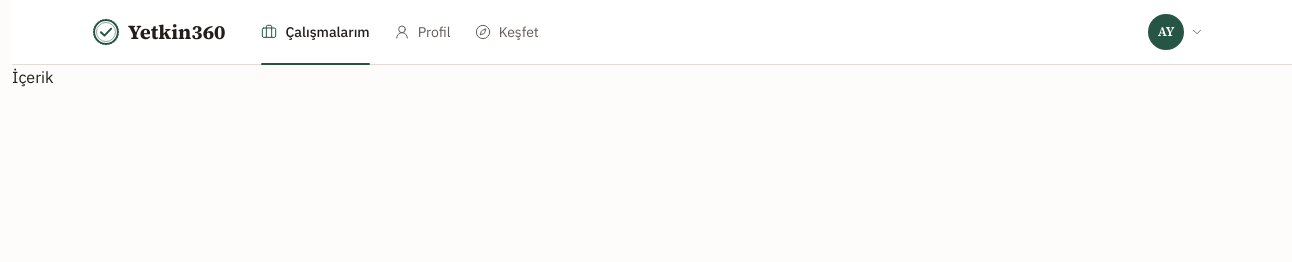
Test: AppShell › Üst gezinme çubuğu › kullanıcı menüsü ad, rol başlığı ve maskeli e-postayı gösterir; tam e-posta yok
Click the button with aria-label "Kullanıcı menüsü".
click(1179, 32)  # box [1146,12,1212,52]
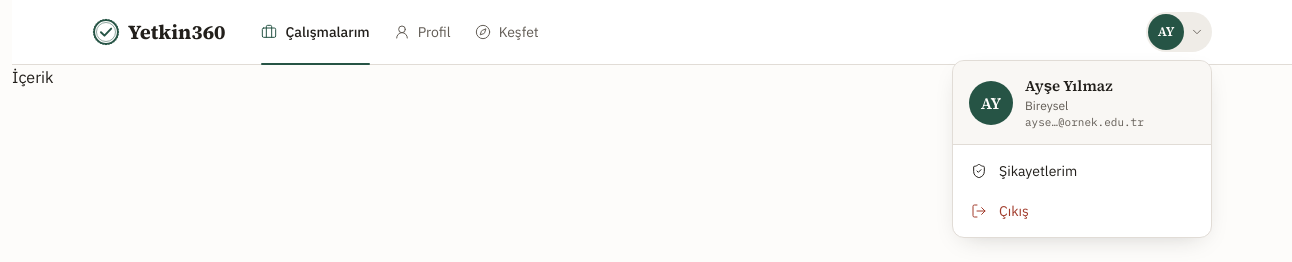
Now the text "Ayşe Yılmaz" is shown, box [1025,75,1113,96]
Now the text "Bireysel" is shown, box [1025,98,1068,112]
